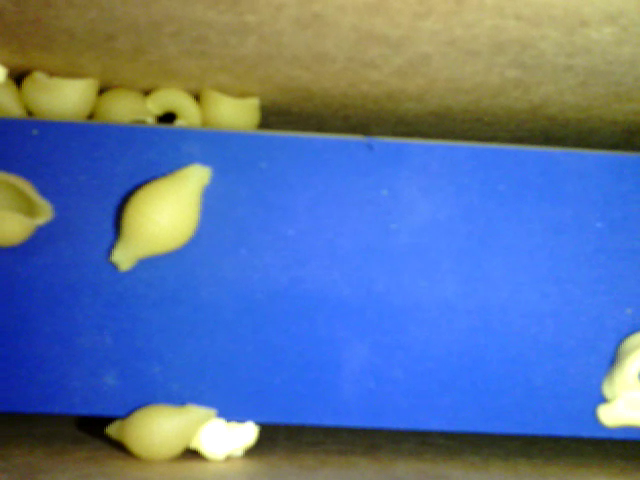elbow: (146, 84, 202, 125)
shell: (108, 161, 211, 273), (105, 401, 217, 460), (1, 169, 54, 247), (18, 70, 98, 121), (197, 83, 260, 128), (91, 87, 159, 123)
tortellini: (594, 330, 639, 429)
